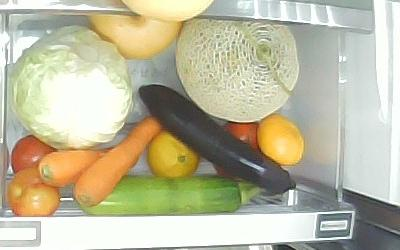cabbage: (9, 24, 133, 150)
carrot: (72, 114, 162, 208), (39, 149, 111, 187)
eggplant: (138, 84, 296, 196)
melon: (176, 19, 300, 123)
pear: (87, 13, 184, 60)
prune: (8, 168, 61, 216), (12, 134, 59, 176)
tangerine: (147, 130, 199, 179), (258, 113, 304, 166)
tomato: (213, 121, 258, 176)
zucchini: (74, 176, 261, 215)
